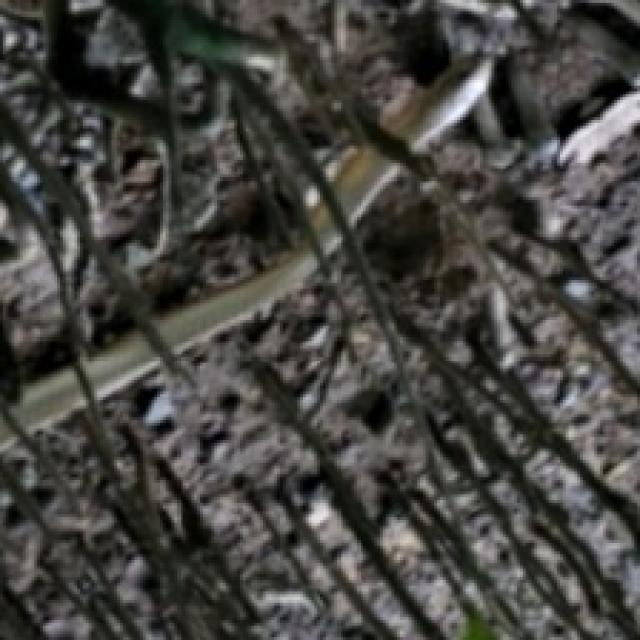king cobra: (158, 246, 316, 352), (381, 56, 494, 151), (334, 145, 401, 223), (90, 331, 160, 397), (19, 369, 82, 428), (311, 205, 340, 251)
